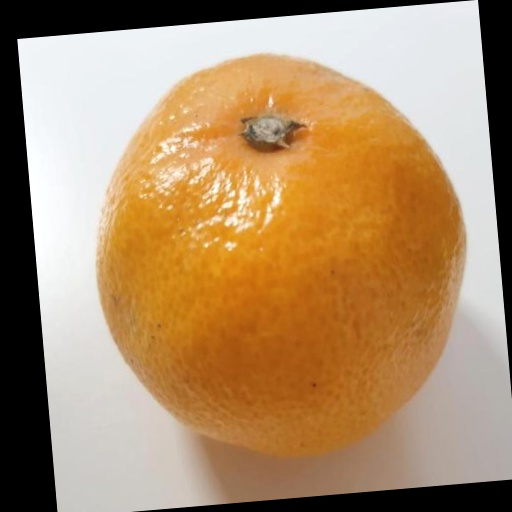fruit: (97, 55, 465, 455)
